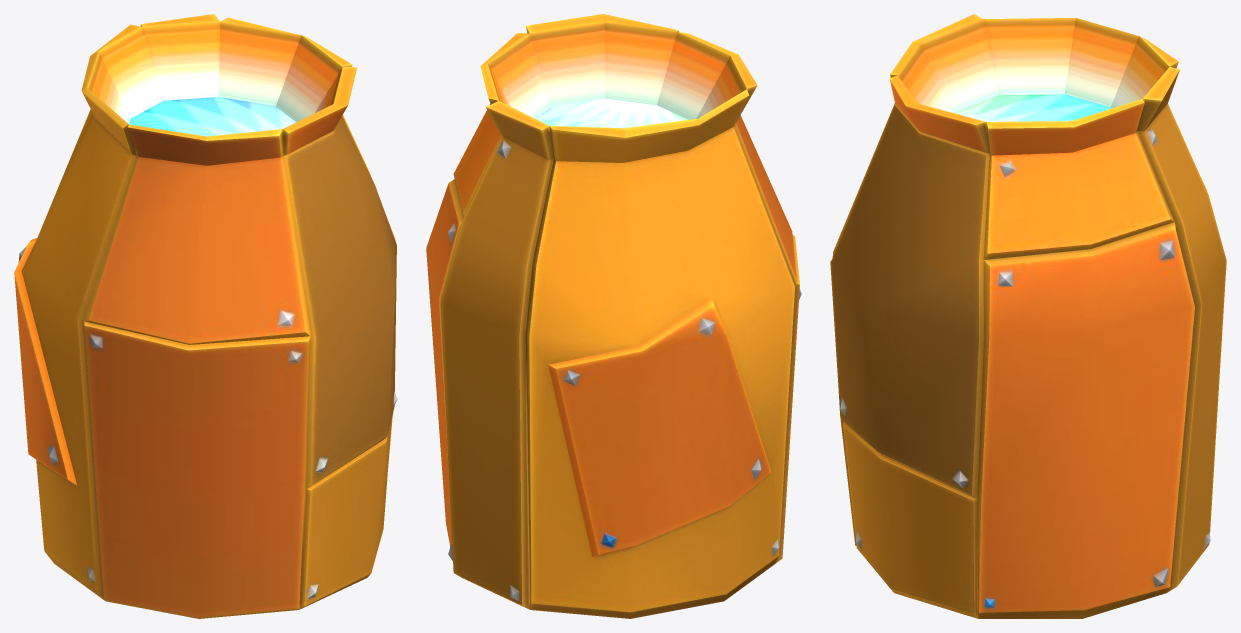
Rendered from obj_vase01_base.gltf.
3 renders of one model, left to right at view 1: azimuth 30°, elevation 25°; view 2: azimuth 150°, elevation 25°; view 3: azimuth 270°, elevation 25°, orthographic.
Visible parts, largest first — view 1: obj_vase01_base; view 2: obj_vase01_base; view 3: obj_vase01_base.
Boxes of the visible parts, left/top/right/bottom form: obj_vase01_base: left=14, top=14, right=397, bottom=618; obj_vase01_base: left=426, top=14, right=801, bottom=618; obj_vase01_base: left=830, top=14, right=1226, bottom=618.
Size of what is drawn, in the model's own units: 0.3736 by 0.531 by 0.3946.
1 material, 1 textured.
